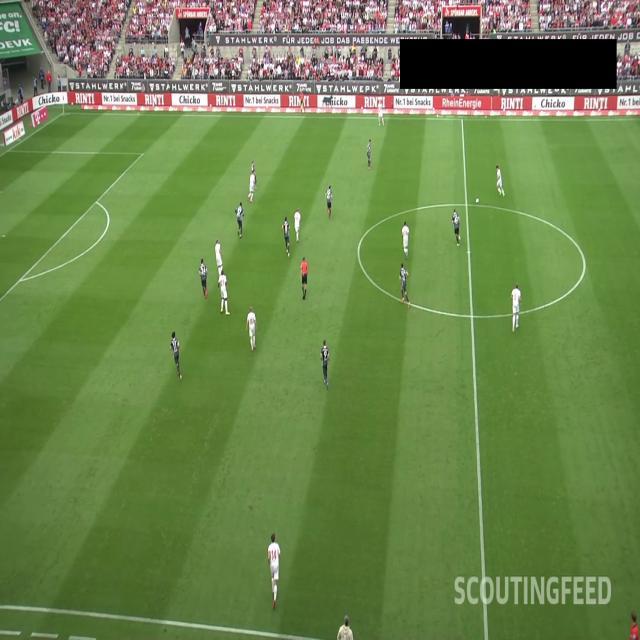ball: (476, 198, 479, 205)
player: (268, 532, 281, 609), (170, 330, 182, 380), (399, 262, 411, 310), (218, 269, 230, 315), (245, 306, 257, 352), (320, 339, 330, 389), (511, 283, 521, 332), (281, 215, 290, 258), (215, 238, 224, 278), (199, 258, 208, 298), (401, 220, 410, 259), (452, 209, 461, 246), (247, 170, 257, 202), (496, 164, 505, 197), (236, 201, 244, 238), (325, 184, 333, 220), (294, 207, 301, 242), (250, 159, 256, 191), (366, 139, 372, 169), (378, 101, 384, 127)
referee: (300, 256, 308, 300), (630, 611, 639, 639), (299, 90, 305, 116)
